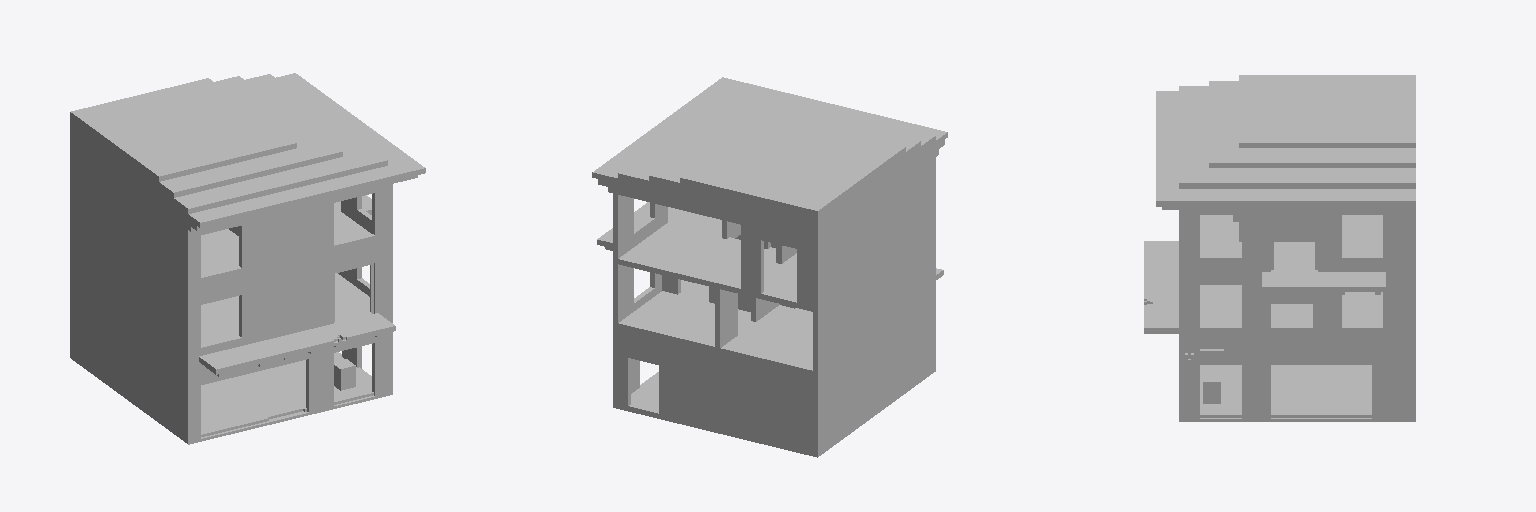
File: immobiliare san marco1-2.obj
The picture shows the model from 3 angles: view 1: azimuth 30°, elevation 25°; view 2: azimuth 150°, elevation 25°; view 3: azimuth 270°, elevation 25°; orthographic projection.
Visible parts, largest first — view 1: object 1; view 2: object 1; view 3: object 1.
Part boxes in pixels (bbox=[...]): object 1: bbox=[70, 73, 425, 444]; object 1: bbox=[592, 77, 947, 457]; object 1: bbox=[1144, 75, 1415, 421].
Bounding box in the file's own units: 9.2 × 9.2 × 9.2.